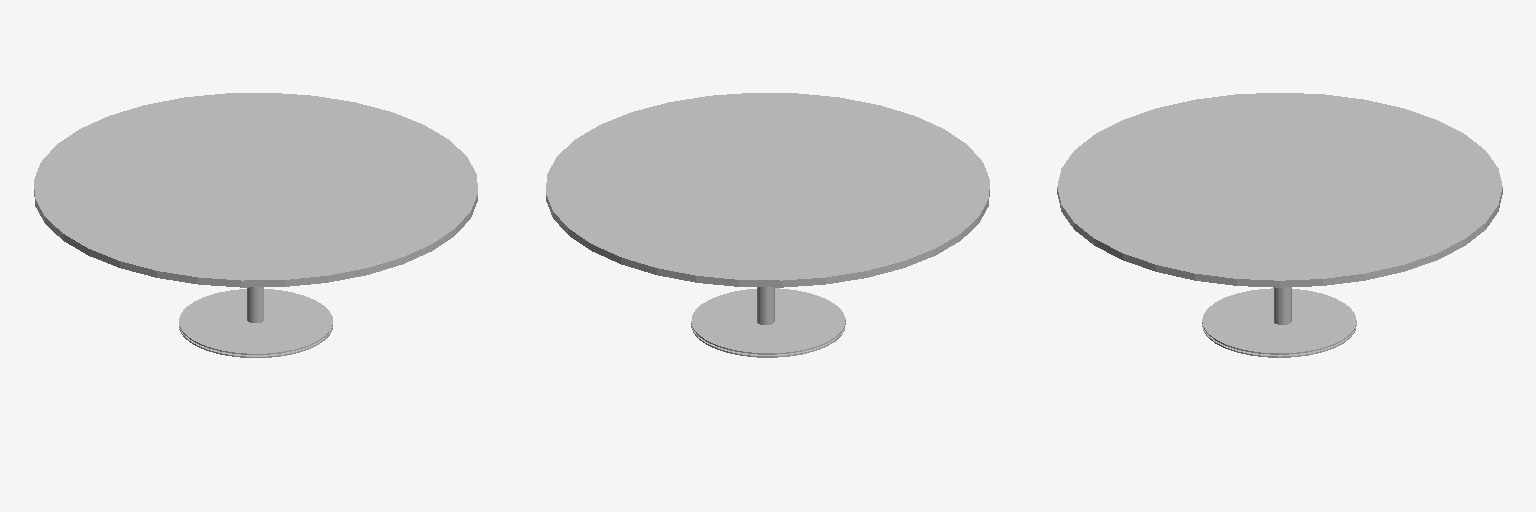
Rendered from table.obj.
3 views of the same model, side by side, from view 1: azimuth 30°, elevation 25°; view 2: azimuth 150°, elevation 25°; view 3: azimuth 270°, elevation 25° (orthographic).
Visible parts, largest first — view 1: Cylinder_Cylinder.002; view 2: Cylinder_Cylinder.002; view 3: Cylinder_Cylinder.002.
Boxes of the visible parts, x1=… form: Cylinder_Cylinder.002: x1=34, y1=93, x2=477, y2=357; Cylinder_Cylinder.002: x1=546, y1=93, x2=989, y2=357; Cylinder_Cylinder.002: x1=1057, y1=93, x2=1502, y2=357.
Bounding box in the file's own units: 700 × 241 × 700.